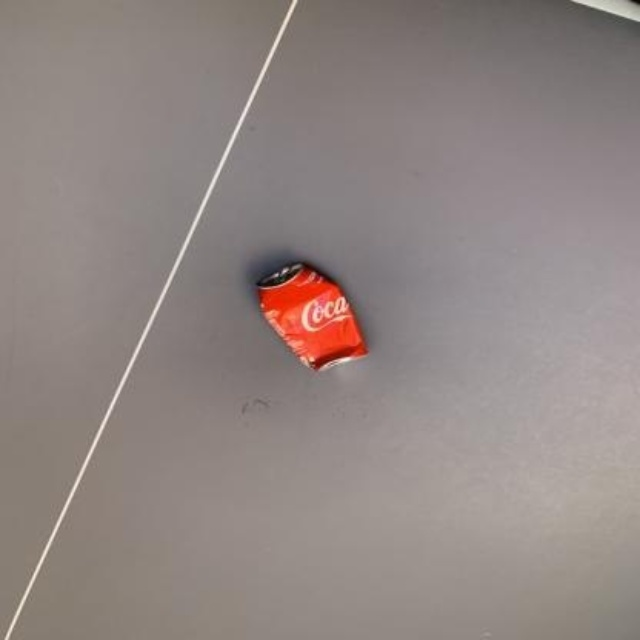trash: (257, 262, 366, 368)
